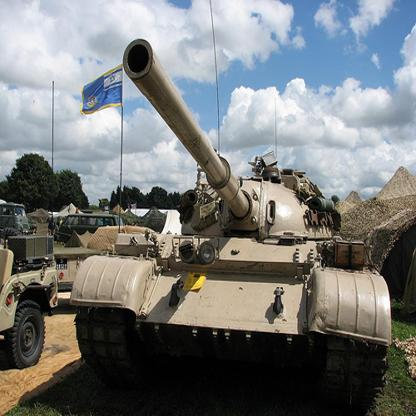Tank: (70, 50, 404, 414)
